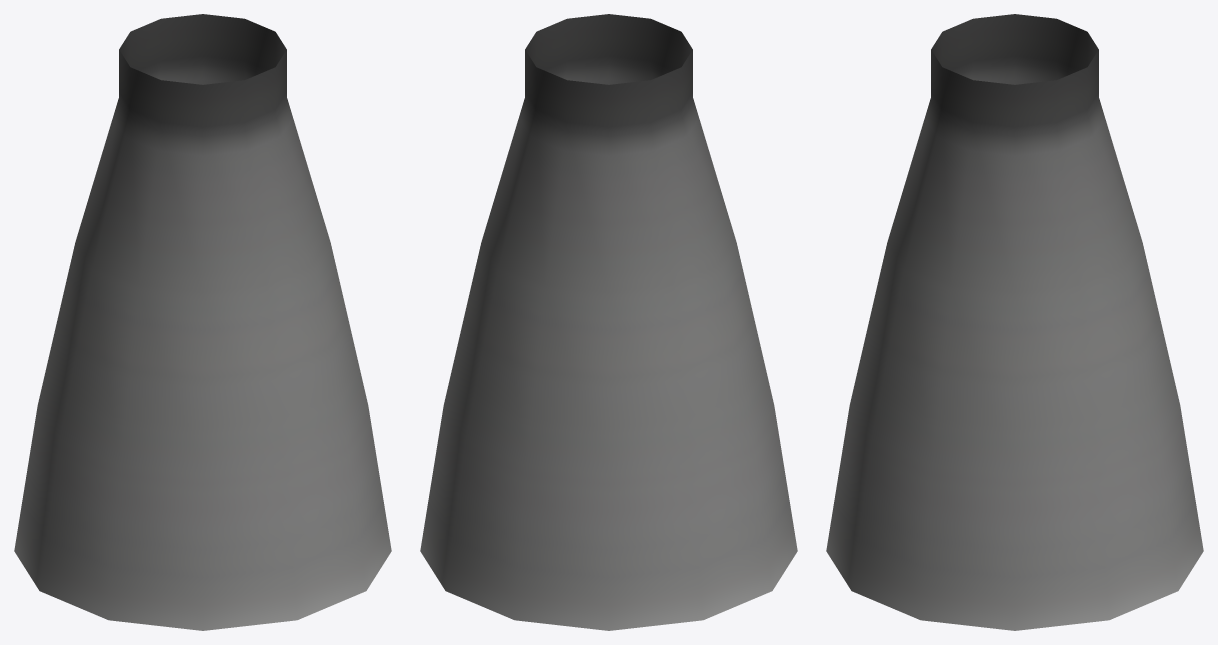
Rendered from Alniyat_Engine_2_Nozzle.obj.
3 renders of one model, left to right at view 1: azimuth 30°, elevation 25°; view 2: azimuth 150°, elevation 25°; view 3: azimuth 270°, elevation 25°, orthographic.
Visible parts, largest first — view 1: Alniyat_Engine_2_Nozzle; view 2: Alniyat_Engine_2_Nozzle; view 3: Alniyat_Engine_2_Nozzle.
Part boxes in pixels (bbox=[...]): Alniyat_Engine_2_Nozzle: bbox=[14, 14, 391, 630]; Alniyat_Engine_2_Nozzle: bbox=[420, 14, 797, 630]; Alniyat_Engine_2_Nozzle: bbox=[826, 14, 1203, 630].
Bounding box in the file's own units: 0.09 × 0.132 × 0.09.
